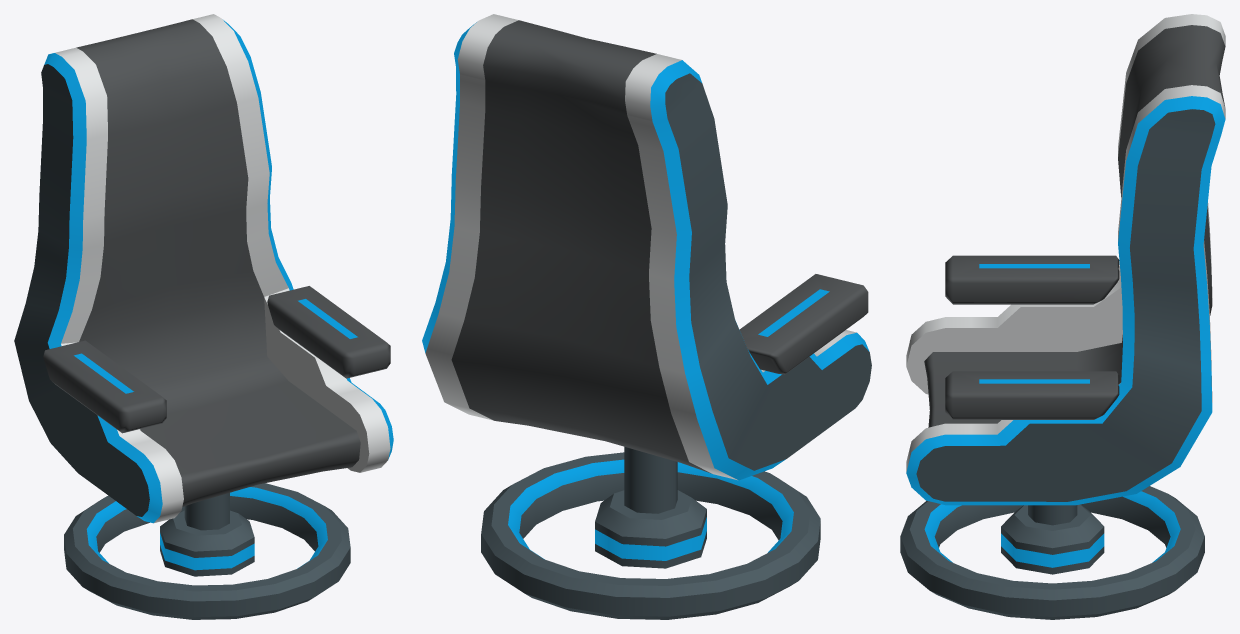
The model's file is Armchair_003.glb.
3 renders of one model, left to right at view 1: azimuth 30°, elevation 25°; view 2: azimuth 150°, elevation 25°; view 3: azimuth 270°, elevation 25°, orthographic. The views are drawn at different scales.
Parts seen in each view (by area): view 1: Armchair_003; view 2: Armchair_003; view 3: Armchair_003.
Part boxes in pixels (x1,y1,x2,y2): Armchair_003: (14,14,393,619); Armchair_003: (422,14,871,619); Armchair_003: (900,14,1225,619).
Size of the model in its own units: 0.7705 by 1.29 by 0.7538.
2 materials, 2 textured.
